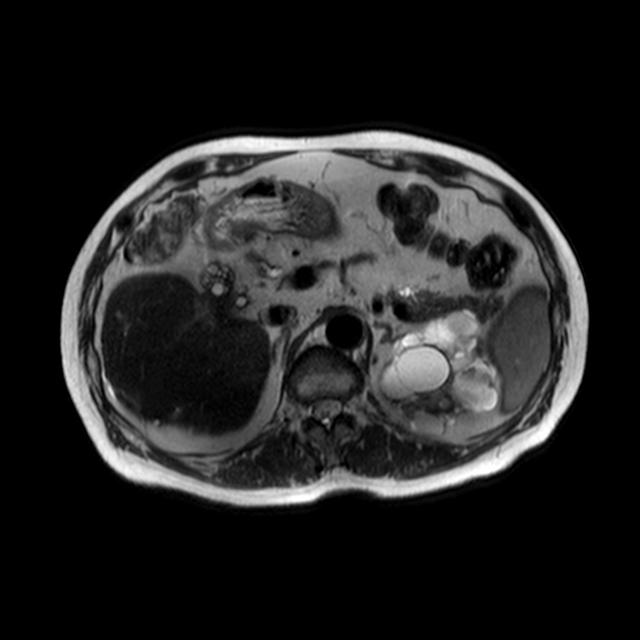sol: (378, 308, 502, 437)
